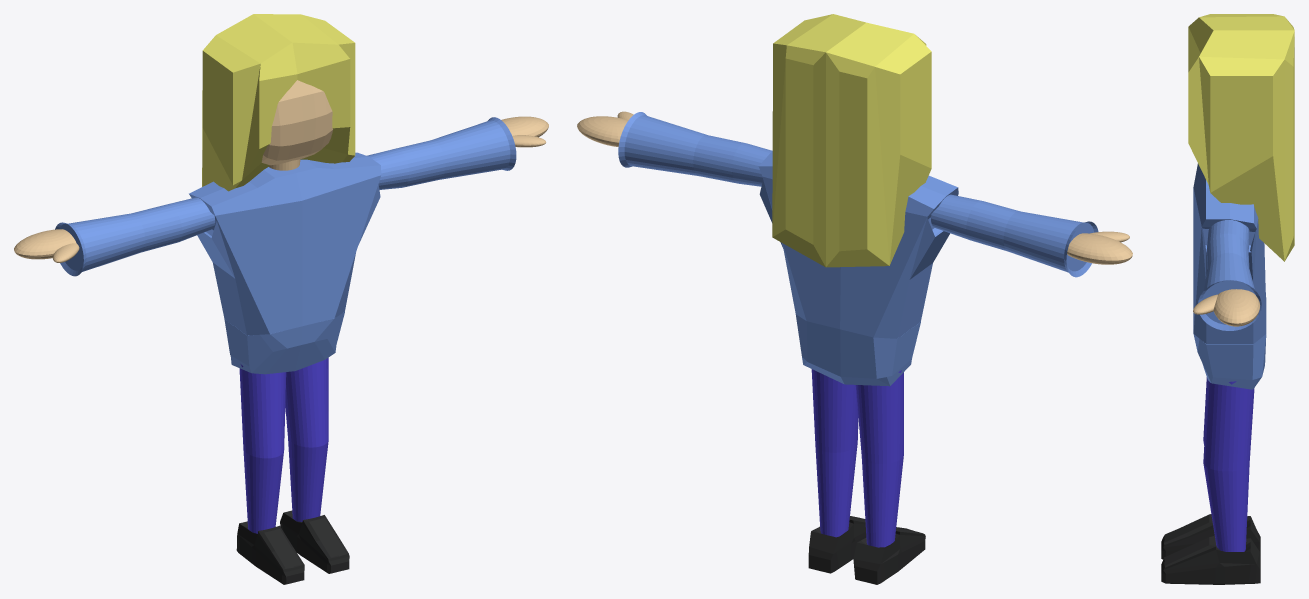
Rendered from La Trombonette_Character 4.fbx.
3 views of the same model, side by side, from view 1: azimuth 30°, elevation 25°; view 2: azimuth 150°, elevation 25°; view 3: azimuth 270°, elevation 25° (orthographic). The views are drawn at different scales.
Parts seen in each view (by area): view 1: Torse, Cube.001, Jambe, Head, Sphere; view 2: Cube.001, Torse, Jambe, Sphere; view 3: Cube.001, Jambe, Torse, Sphere.
Boxes of the visible parts, left/top/right/bottom form: Torse: left=55, top=117, right=516, bottom=374; Cube.001: left=202, top=14, right=355, bottom=191; Jambe: left=236, top=357, right=349, bottom=584; Head: left=261, top=80, right=332, bottom=165; Sphere: left=14, top=116, right=548, bottom=262; Cube.001: left=772, top=14, right=931, bottom=267; Torse: left=618, top=112, right=1098, bottom=386; Jambe: left=808, top=369, right=925, bottom=584; Sphere: left=577, top=111, right=1132, bottom=264; Cube.001: left=1188, top=14, right=1294, bottom=261; Jambe: left=1161, top=377, right=1260, bottom=584; Torse: left=1193, top=163, right=1266, bottom=389; Sphere: left=1193, top=289, right=1259, bottom=326.
Bounding box in the file's own units: 1212 × 1128 × 254.
